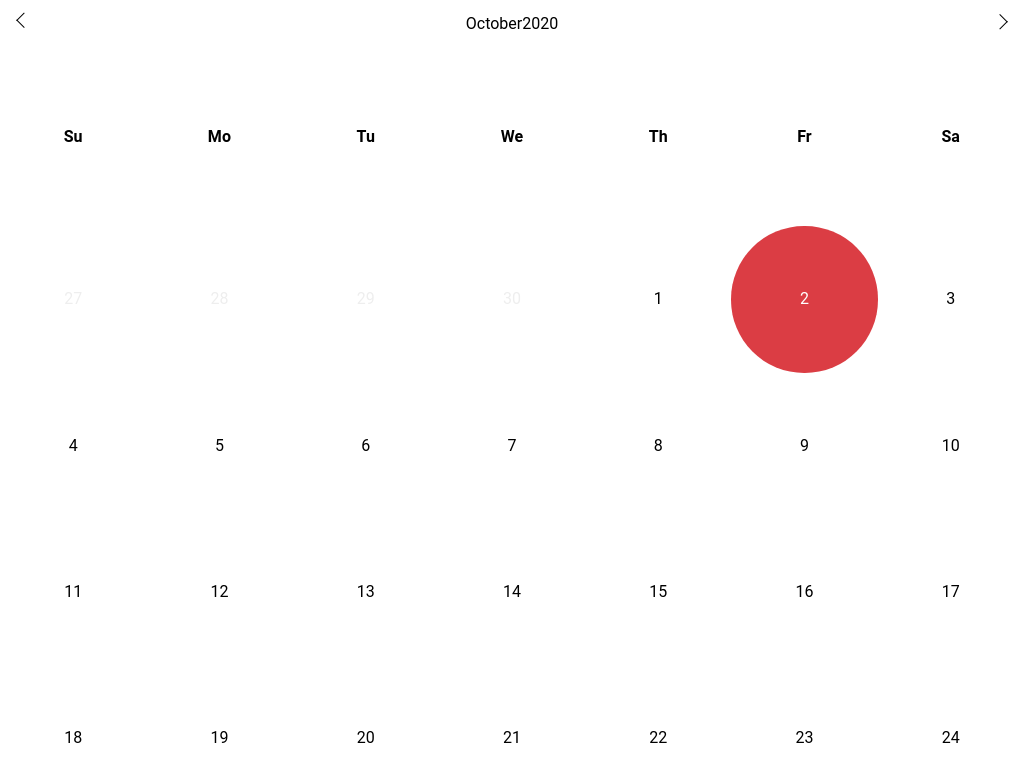
it: Datepicker Component › switches to month mode / year mode when click on head
Click the element showing "October2020" at (512, 24), box [458, 16, 566, 32]
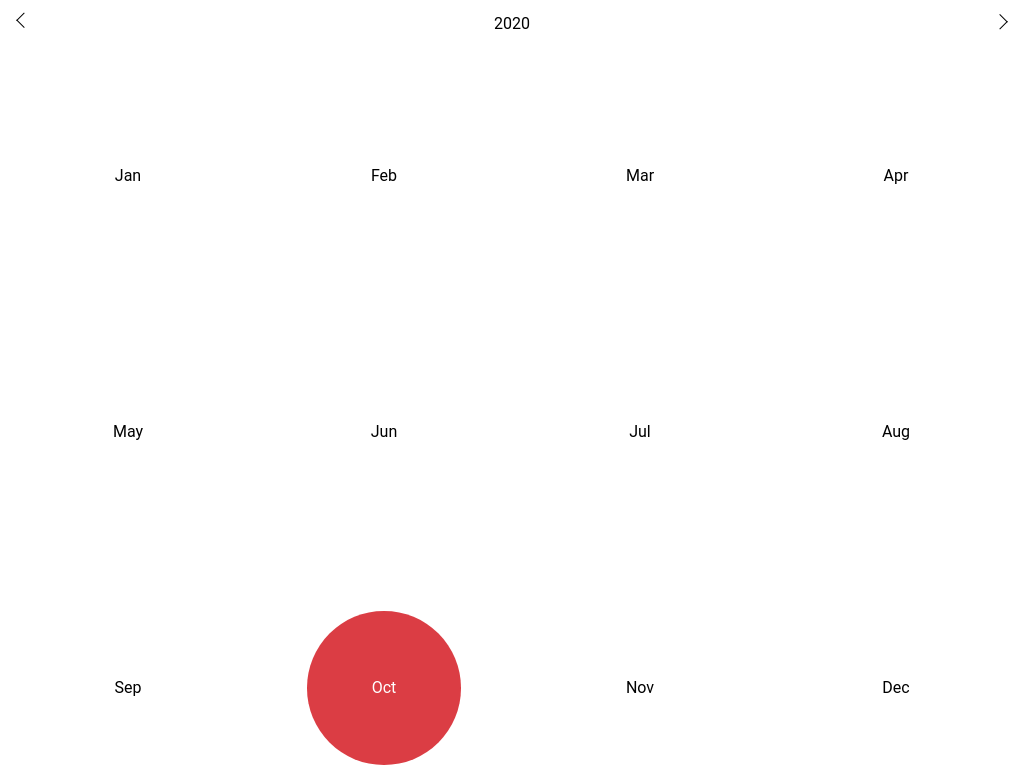
Check: the element with class "month-grid" showing "Jan" is shown, box [115, 166, 141, 185]
Click the element showing "2020" at (512, 24), box [494, 14, 530, 33]
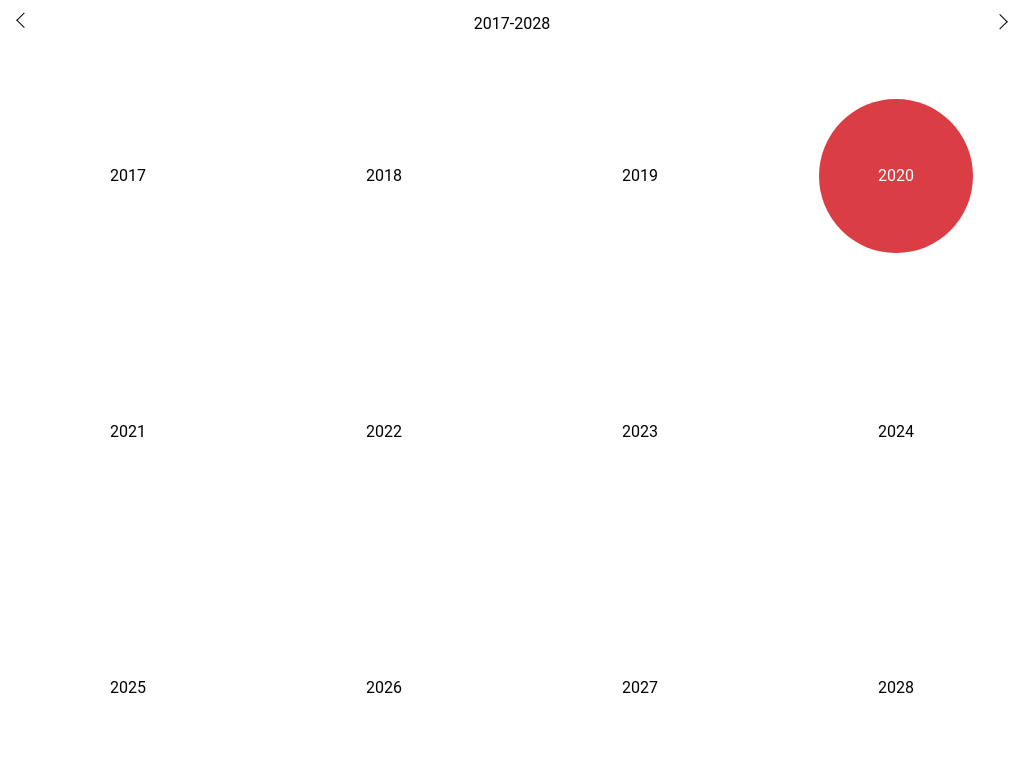
Check: the element with class "month-grid" is gone
Check: the element with class "year-grid" showing "2017" is shown, box [110, 166, 146, 185]
